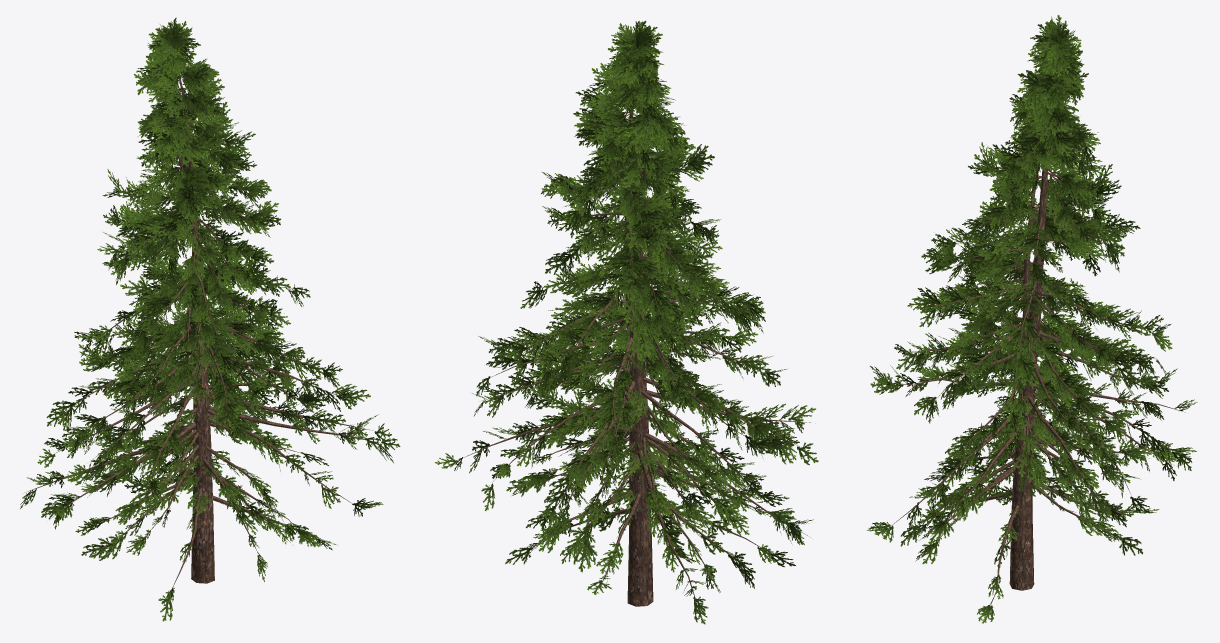
The model's file is archa.glb.
3 renders of one model, left to right at view 1: azimuth 30°, elevation 25°; view 2: azimuth 150°, elevation 25°; view 3: azimuth 270°, elevation 25°, orthographic. The views are drawn at different scales.
Visible parts, largest first — view 1: v0_leaf, v1_leaf, v0_bark, v1_bark; view 2: v0_leaf, v1_leaf, v0_bark, v1_bark; view 3: v0_leaf, v1_leaf, v0_bark, v1_bark.
Boxes of the visible parts, x1,y1,x2,y2 form: v0_leaf: (20, 17, 400, 529); v1_leaf: (75, 65, 336, 621); v0_bark: (24, 74, 380, 583); v1_bark: (92, 98, 314, 590); v0_leaf: (434, 20, 818, 624); v1_leaf: (505, 77, 796, 594); v0_bark: (460, 108, 810, 607); v1_bark: (527, 103, 767, 585); v0_leaf: (866, 15, 1197, 543); v1_leaf: (900, 60, 1159, 623); v0_bark: (891, 75, 1184, 590); v1_bark: (919, 168, 1134, 605).
Bounding box in the file's own units: 5.34 × 9 × 5.07.
2 materials, 2 textured.
